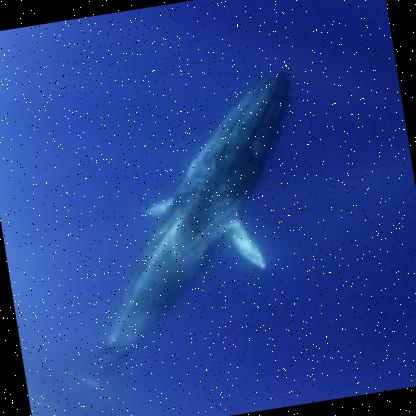blue_whale: (22, 46, 415, 387)
